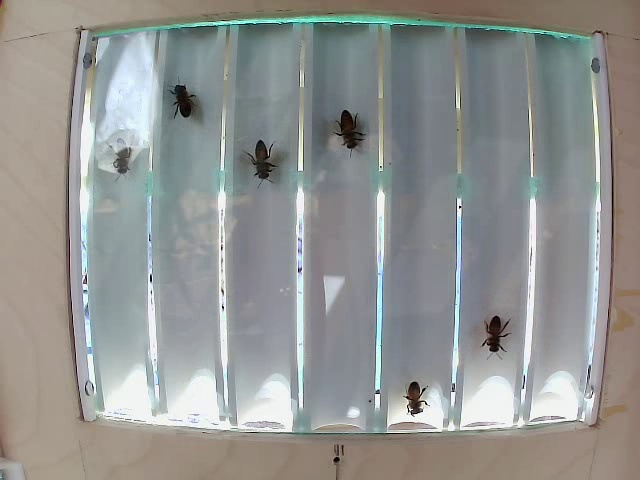bee: (154, 68, 217, 130), (235, 135, 286, 201), (478, 300, 520, 360), (401, 369, 436, 426), (341, 108, 372, 165)
